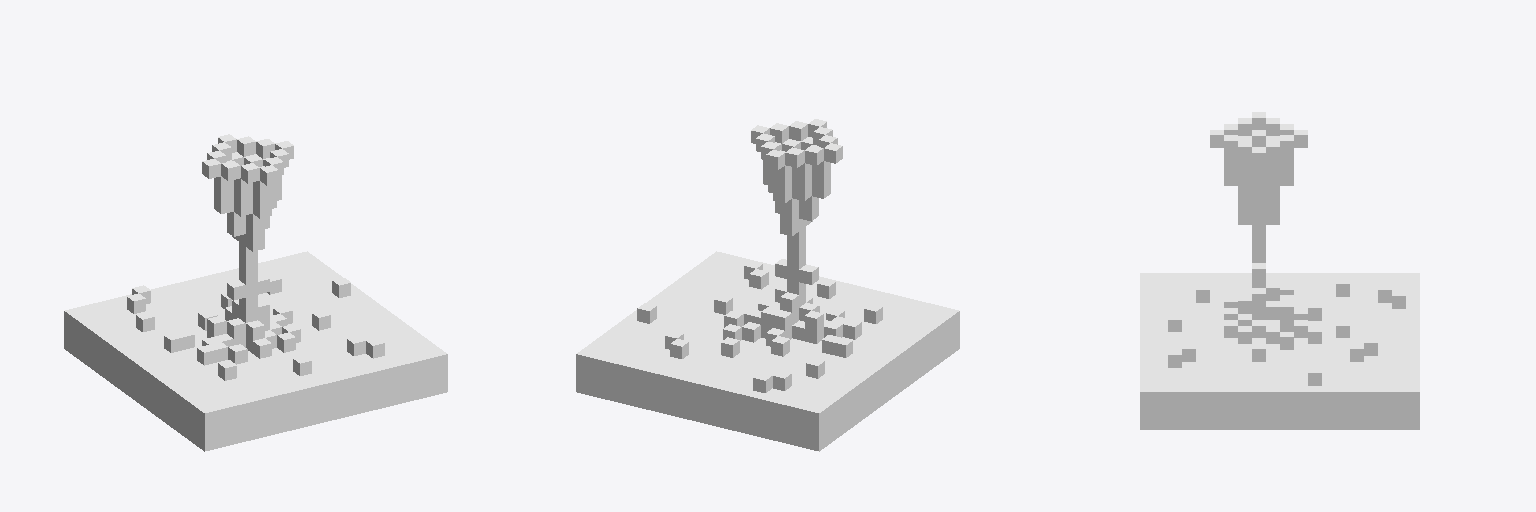
Rendered from plant2.vox.obj.
3 views of the same model, side by side, from view 1: azimuth 30°, elevation 25°; view 2: azimuth 150°, elevation 25°; view 3: azimuth 270°, elevation 25° (orthographic).
Visible parts, largest first — view 1: object 1; view 2: object 1; view 3: object 1.
Boxes of the visible parts, x1,y1,x2,y2 form: object 1: [64, 134, 447, 451]; object 1: [576, 119, 959, 451]; object 1: [1140, 112, 1419, 429].
Bounding box in the file's own units: 2 × 1.8 × 2.